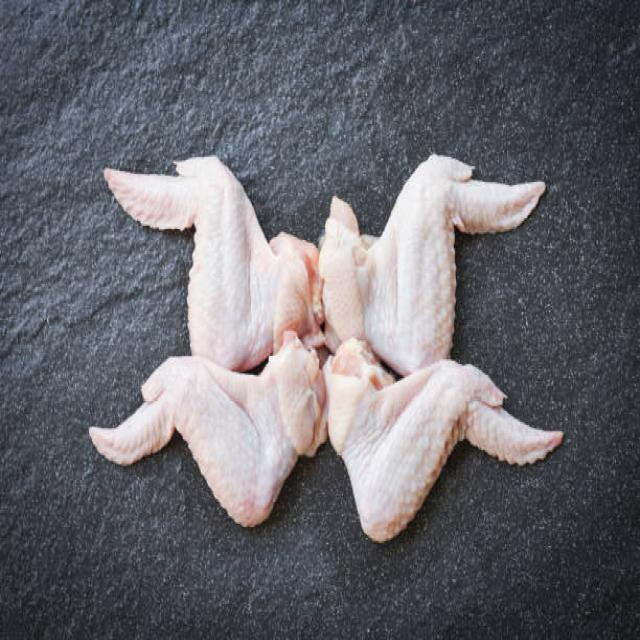chicken wing: (334, 345, 563, 554), (323, 152, 546, 364), (80, 349, 328, 532), (105, 151, 311, 357)
